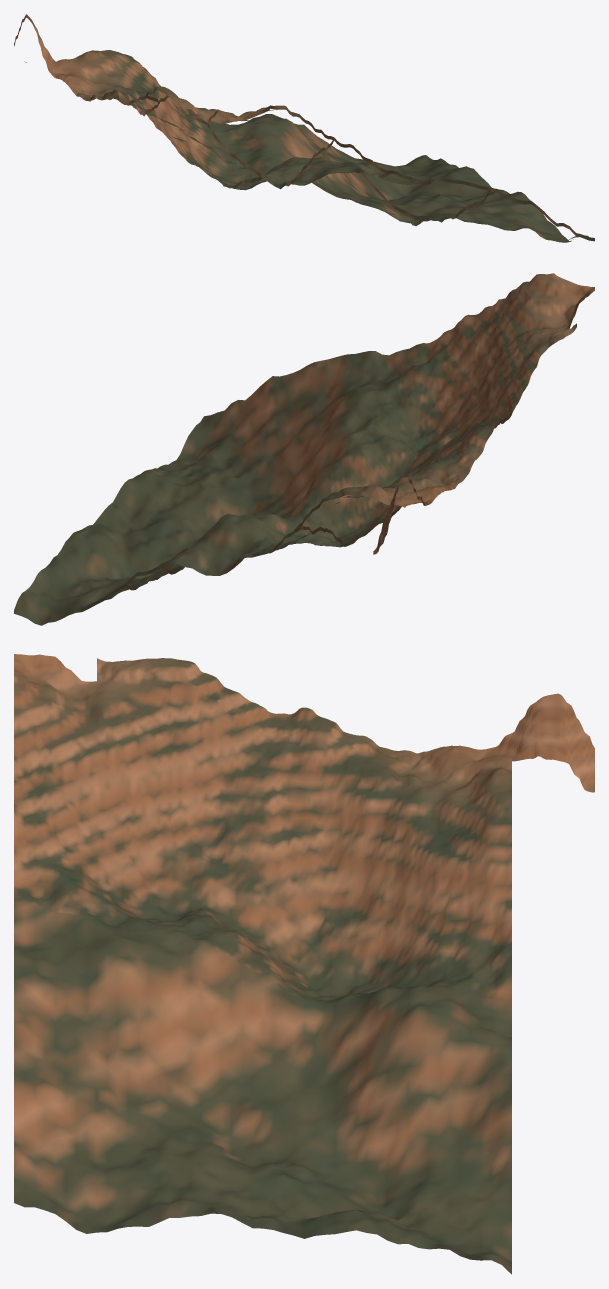
The model's file is terrain-028.glb.
The picture shows the model from 3 angles, top to bottom: view 1: azimuth 30°, elevation 25°; view 2: azimuth 150°, elevation 25°; view 3: azimuth 270°, elevation 25°; orthographic projection. The views are drawn at different scales.
Parts seen in each view (by area): view 1: terrain-028; view 2: terrain-028; view 3: terrain-028.
Boxes of the visible parts, x1=… form: terrain-028: x1=14, y1=14, x2=594, y2=242; terrain-028: x1=14, y1=273, x2=594, y2=625; terrain-028: x1=14, y1=654, x2=594, y2=1274.
Bounding box in the file's own units: 472 × 326 × 448.
